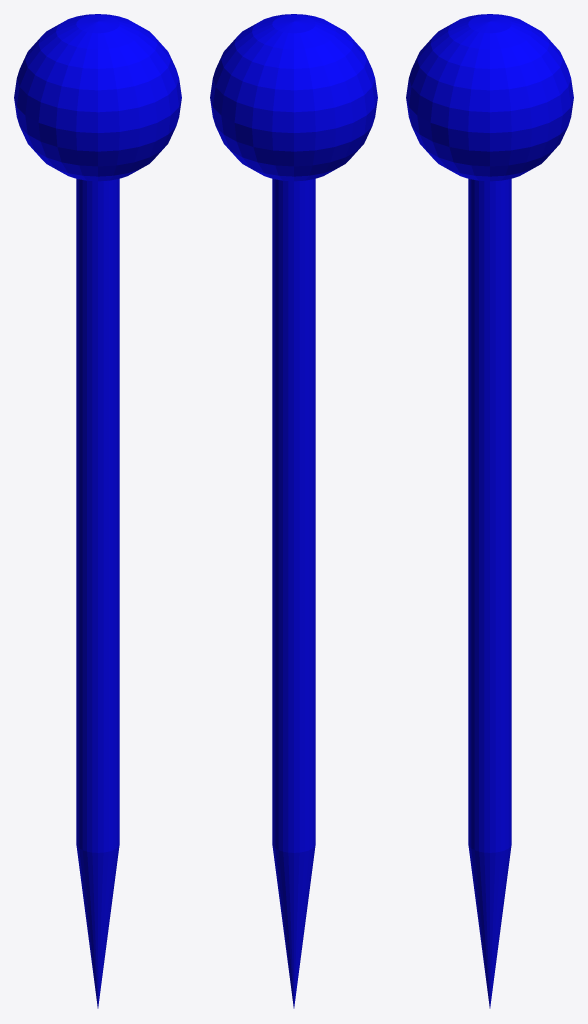
File: pin.fbx
3 views of the same model, side by side, from view 1: azimuth 30°, elevation 25°; view 2: azimuth 150°, elevation 25°; view 3: azimuth 270°, elevation 25° (orthographic).
Parts seen in each view (by area): view 1: Layer0; view 2: Layer0; view 3: Layer0.
Part boxes in pixels (x1,y1,x2,y2): Layer0: (14, 14, 181, 1008); Layer0: (210, 14, 377, 1008); Layer0: (406, 14, 573, 1008).
Size of the model in its own units: 0.0279 by 0.1814 by 0.0279.
